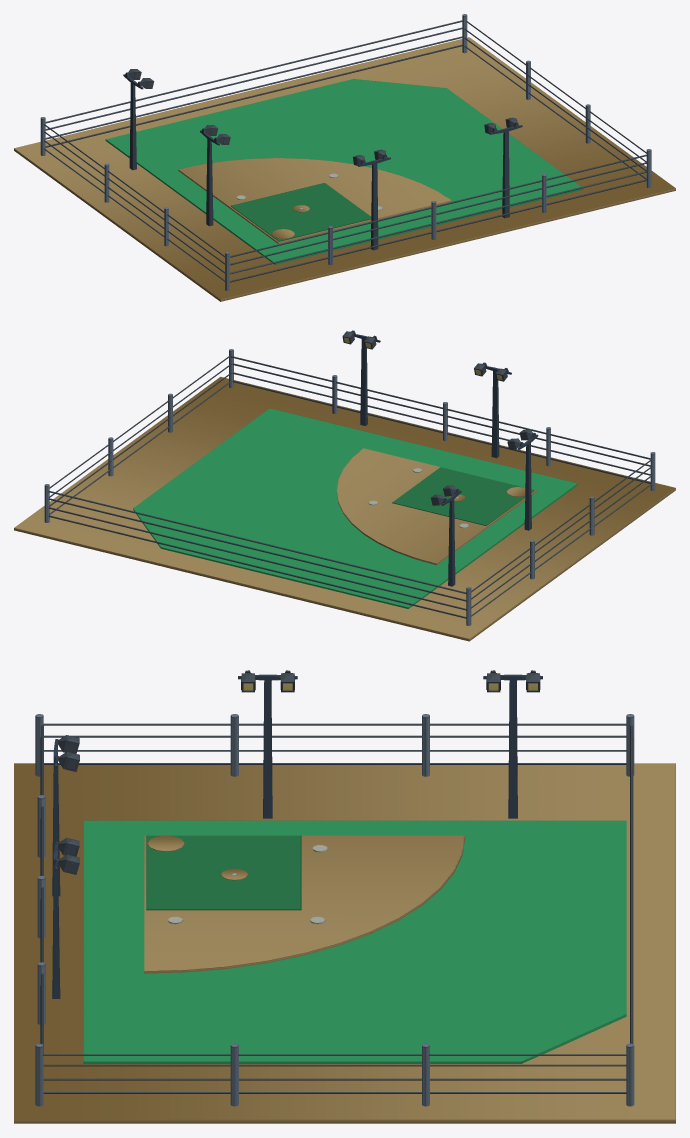
Rendered from Ballpark.glb.
3 renders of one model, top to bottom at view 1: azimuth 30°, elevation 25°; view 2: azimuth 150°, elevation 25°; view 3: azimuth 270°, elevation 25°, orthographic. The views are drawn at different scales.
Visible parts, largest first — view 1: Node; view 2: Node; view 3: Node.
Boxes of the visible parts, x1,y1,x2,y2 form: Node: [14, 14, 675, 301]; Node: [14, 330, 675, 641]; Node: [14, 670, 675, 1123].
Bounding box in the file's own units: 1058 × 215 × 831.
Materials: 1 (1 with a texture image).
